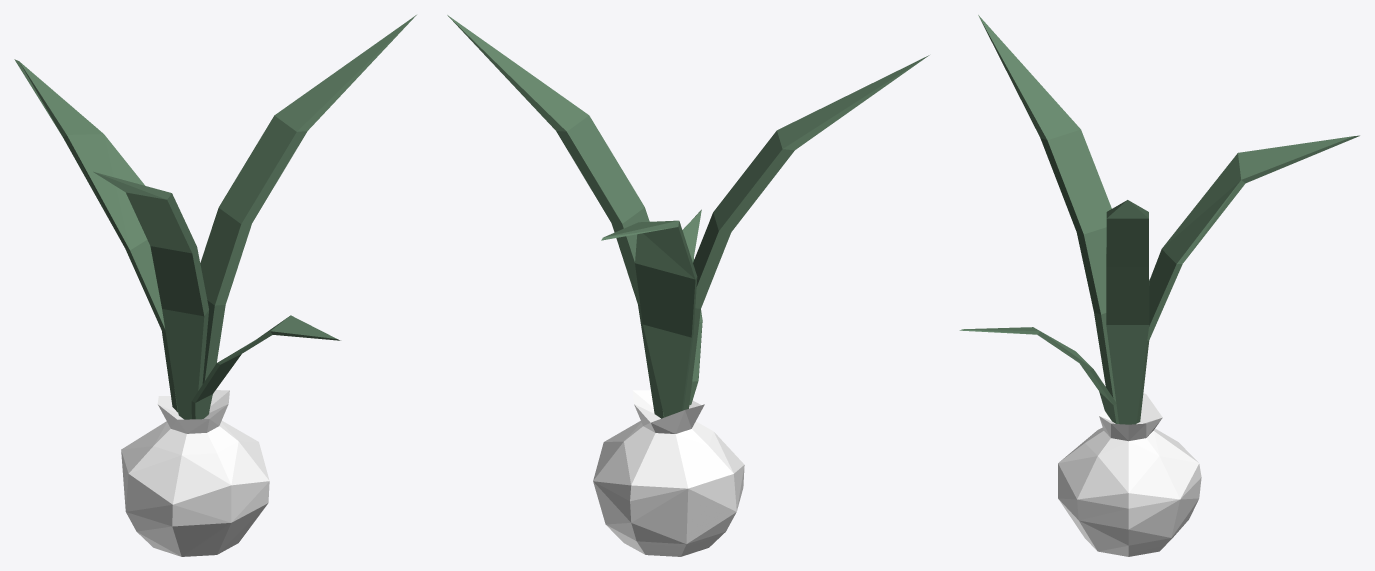
The model's file is onion.fbx.
3 views of the same model, side by side, from view 1: azimuth 30°, elevation 25°; view 2: azimuth 150°, elevation 25°; view 3: azimuth 270°, elevation 25° (orthographic). The views are drawn at different scales.
Visible parts, largest first — view 1: onion; view 2: onion; view 3: onion.
Part boxes in pixels (x1,y1,x2,y2): onion: [14, 15, 416, 556]; onion: [447, 15, 929, 556]; onion: [959, 15, 1359, 556].
Size of the model in its own units: 35.58 by 40.55 by 32.53.
